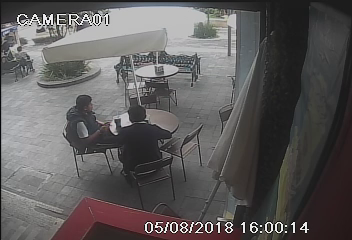libre: (115, 55, 183, 112)
ocupado: (63, 101, 203, 189)
